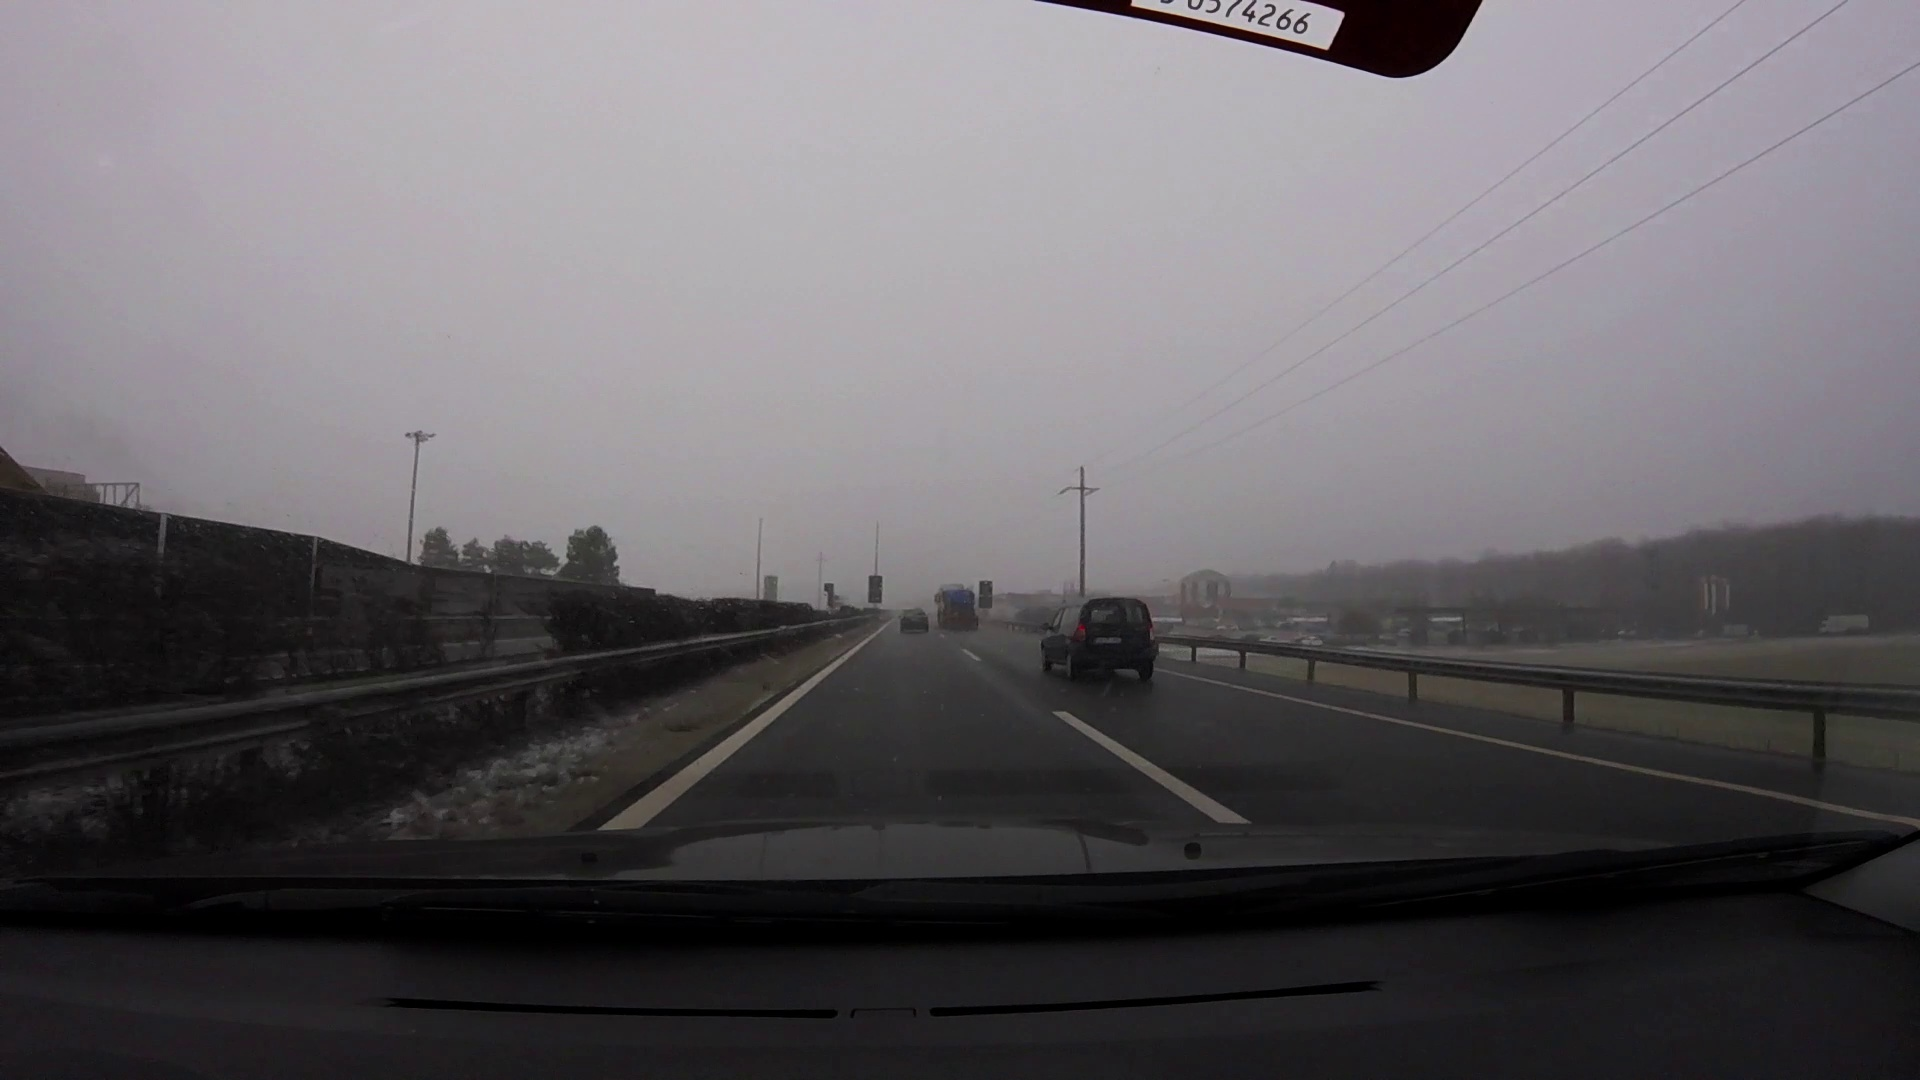radar: (823, 582, 837, 611)
